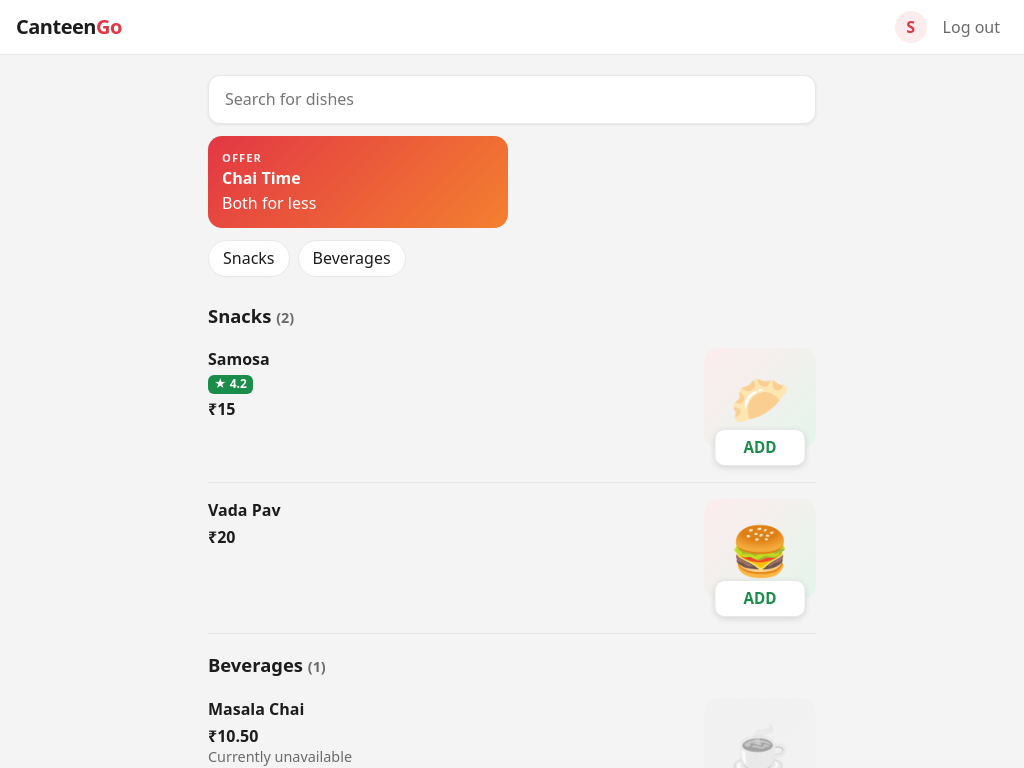
Test: student app › shows the menu, turns ADD into a stepper and shows the cart bar
Expected: the heading "Samosa" is shown, [208,348,270,370]
Click the button with aria-label "add samosa".
click(760, 448)  # box [714,429,806,466]
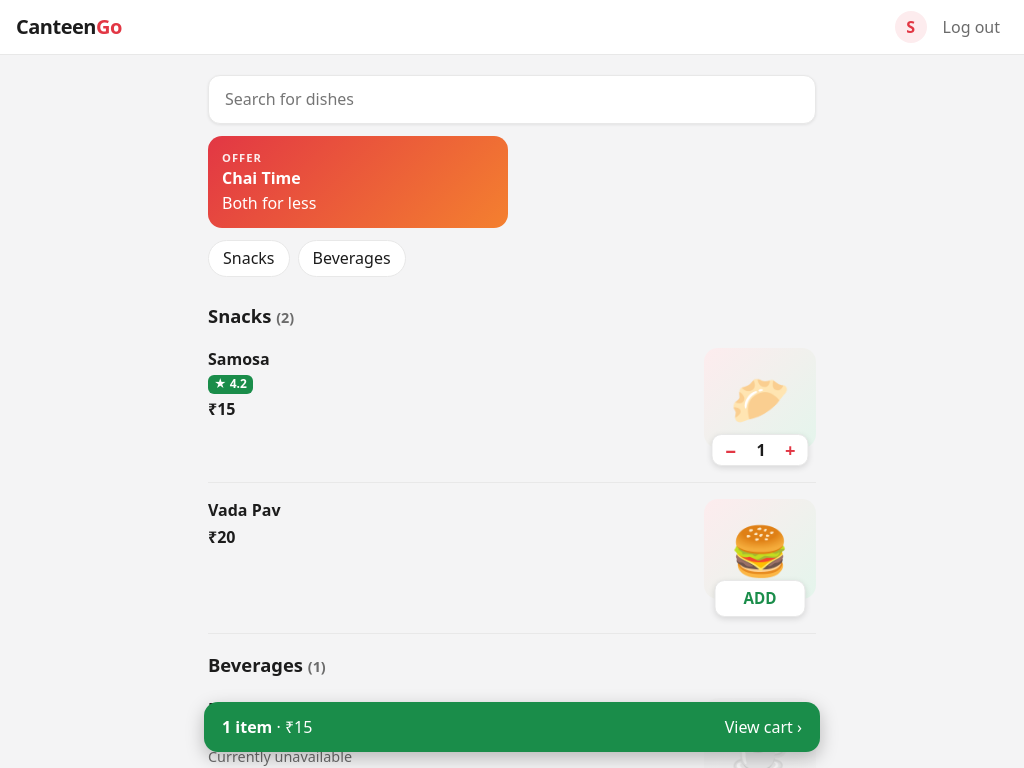
Expected: the element named "samosa quantity" is shown, [712,434,808,466]
Expected: the text "1 item" is shown, [222,716,272,738]
Click the button named "add one more samosa".
click(790, 450)  # box [773,435,808,465]
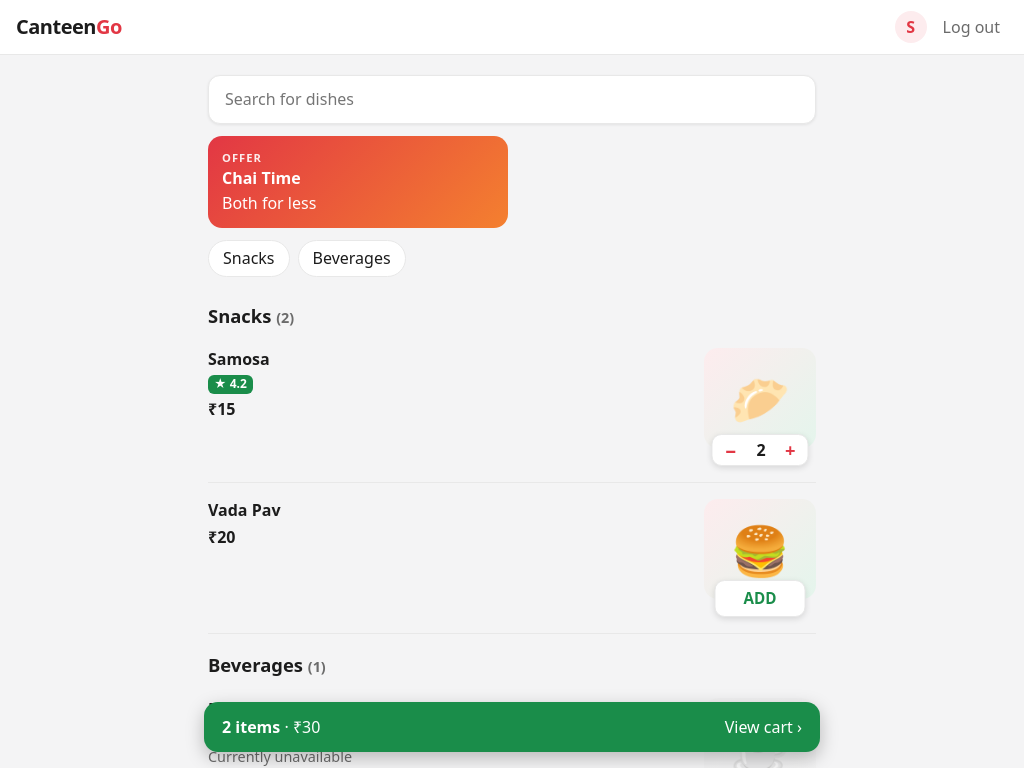
Expected: the text "2 items" is shown, [222,716,280,738]
Click the button named "remove one samosa".
click(731, 450)  # box [712,435,749,465]
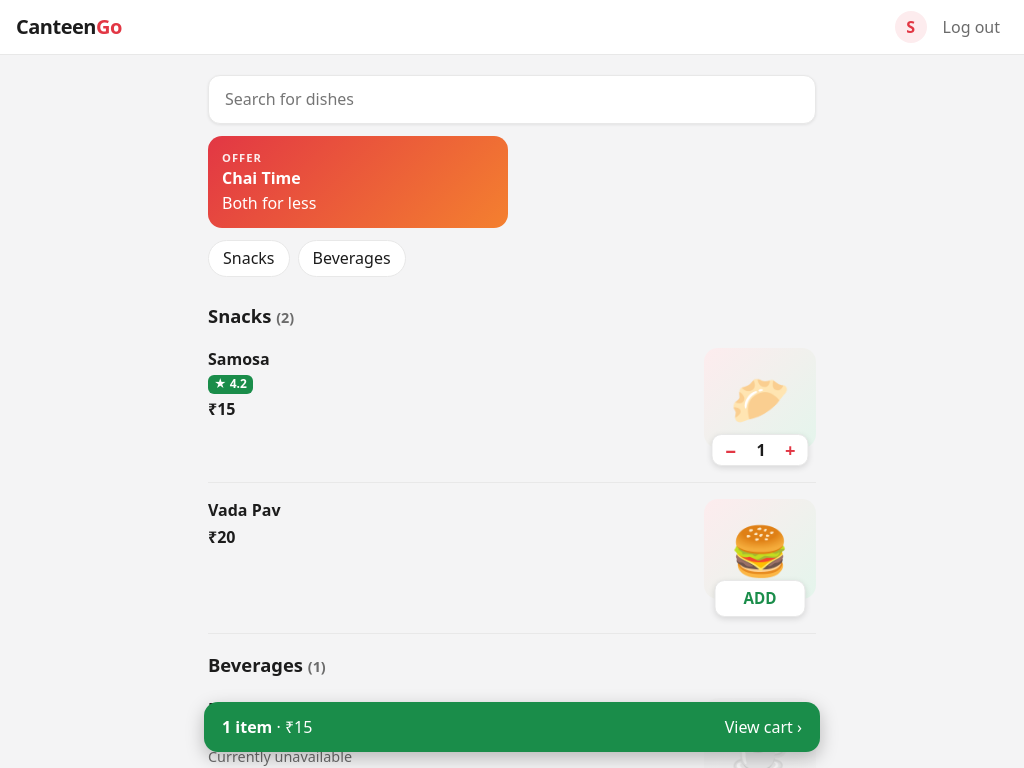
Click the button named "remove one samosa".
click(731, 450)  # box [712,435,749,465]
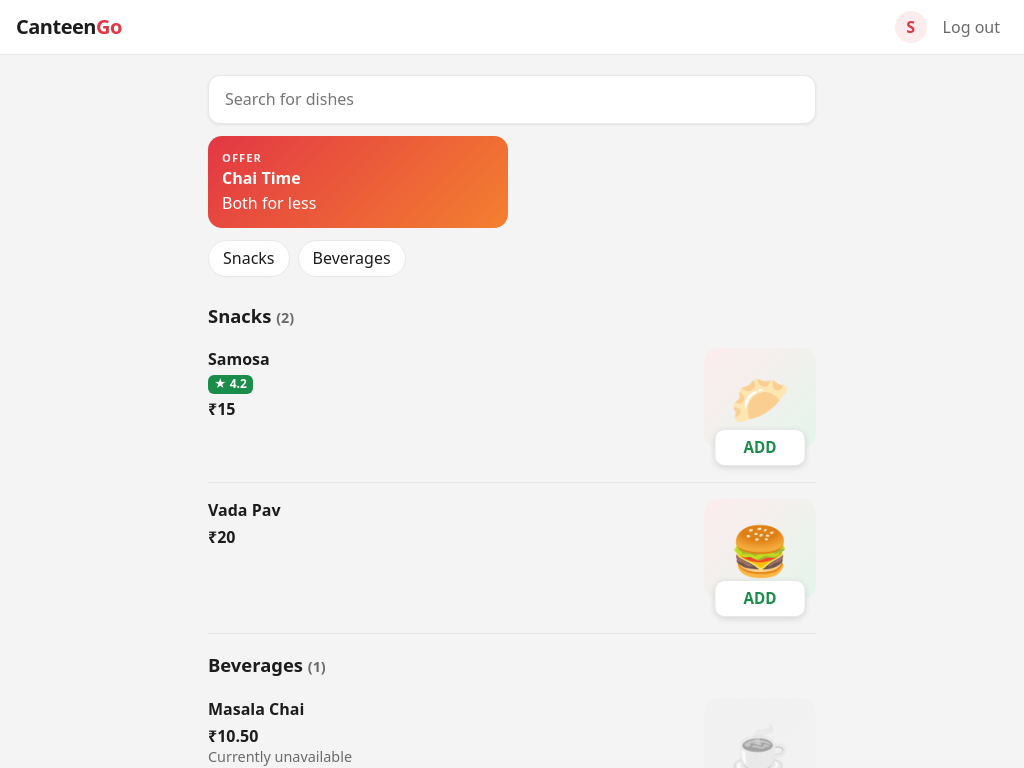
Expected: the button with aria-label "add samosa" is shown, [714,429,806,466]
